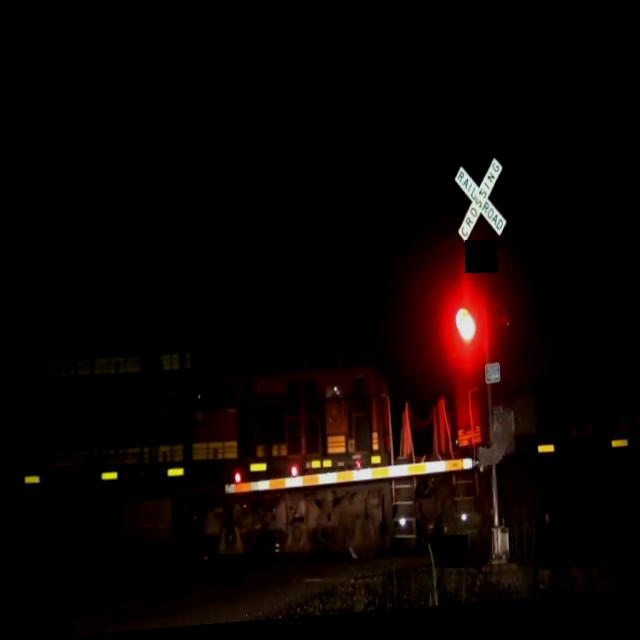locomotive: (5, 280, 423, 605)
